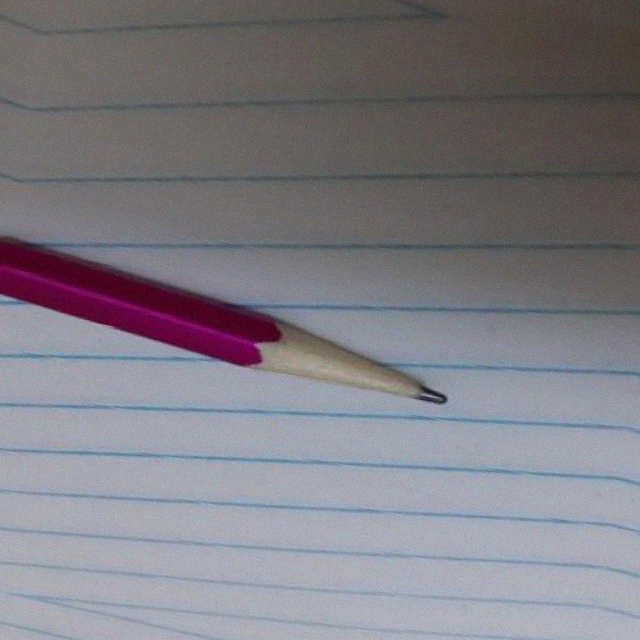pencil: (230, 324, 452, 417)
